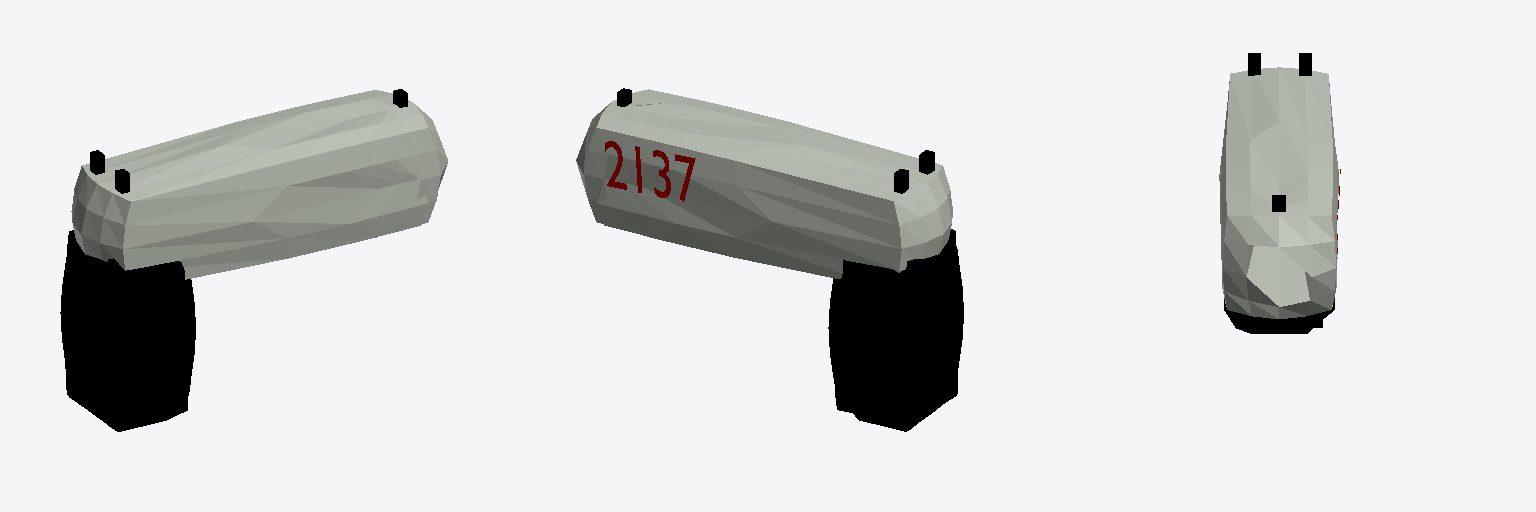
The model's file is 2137vaticanexpress.obj.
3 renders of one model, left to right at view 1: azimuth 30°, elevation 25°; view 2: azimuth 150°, elevation 25°; view 3: azimuth 270°, elevation 25°, orthographic.
Visible parts, largest first — view 1: Cube.002; view 2: Cube.002, 2137; view 3: Cube.002.
Part boxes in pixels (bbox=[...]): Cube.002: bbox=[60, 89, 447, 431]; Cube.002: bbox=[576, 88, 963, 431]; 2137: bbox=[605, 141, 695, 201]; Cube.002: bbox=[1219, 53, 1338, 333].
Size of the model in its own units: 7.35 by 5.16 by 2.2.